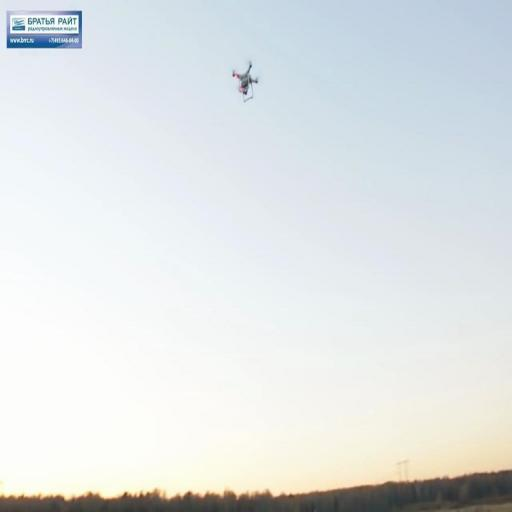drone: (231, 55, 263, 103)
